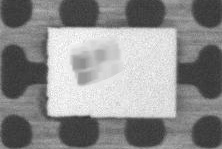DIE_INK: (89, 21, 194, 62)
